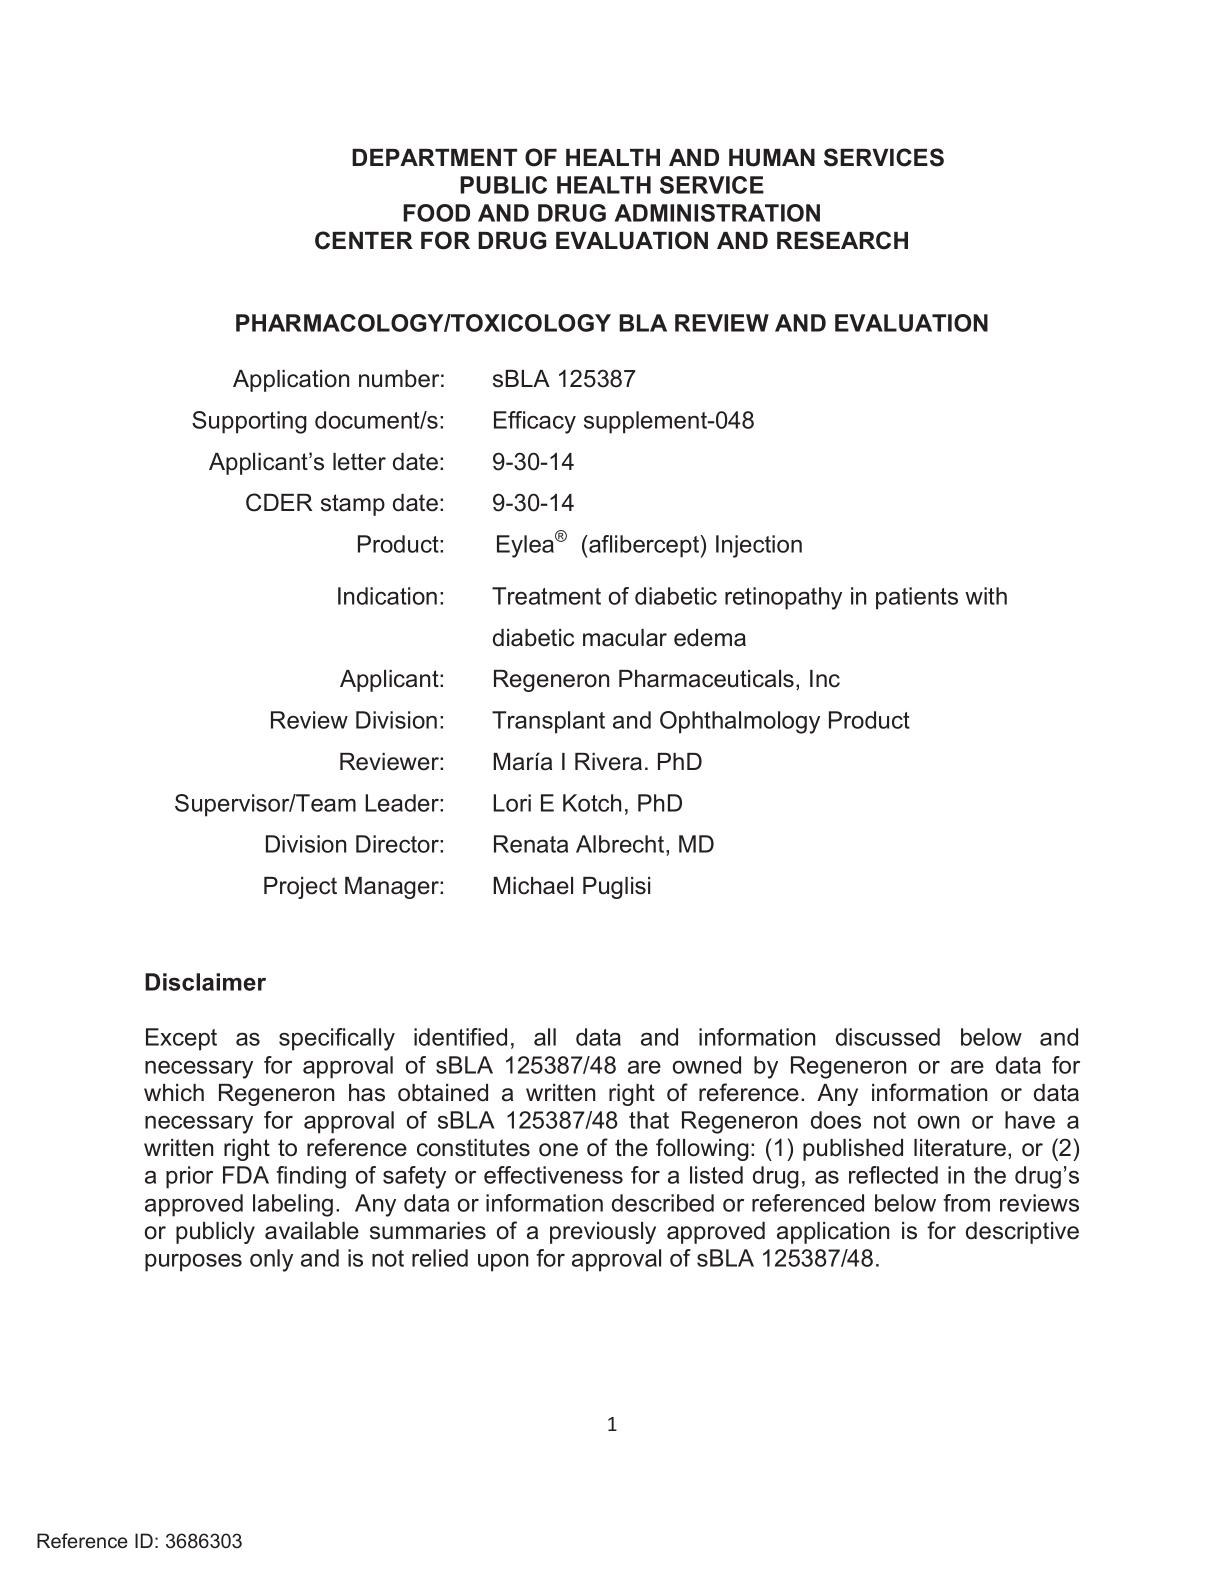nolines: (172, 366, 1011, 901)
